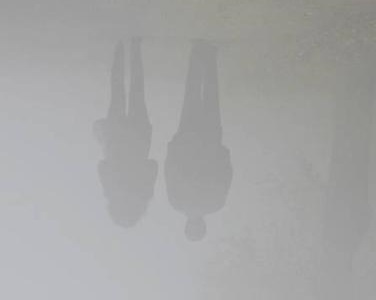person: (165, 39, 237, 242), (91, 36, 159, 228)
